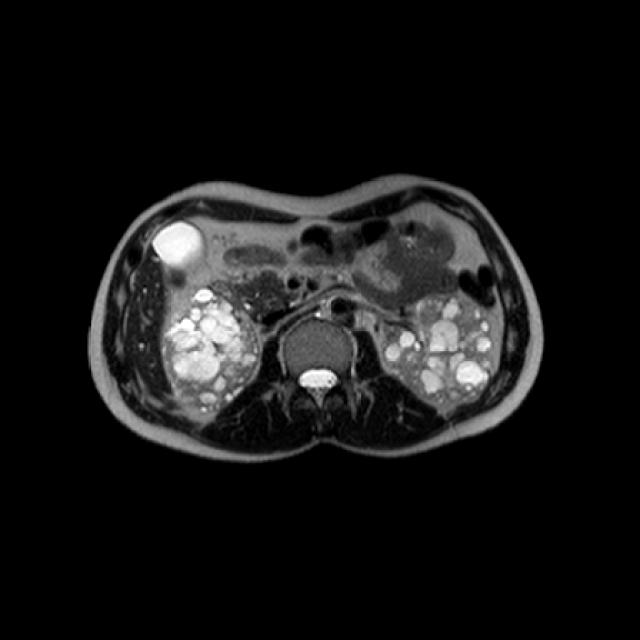sag: (161, 284, 259, 416)
sol: (379, 287, 499, 416)
